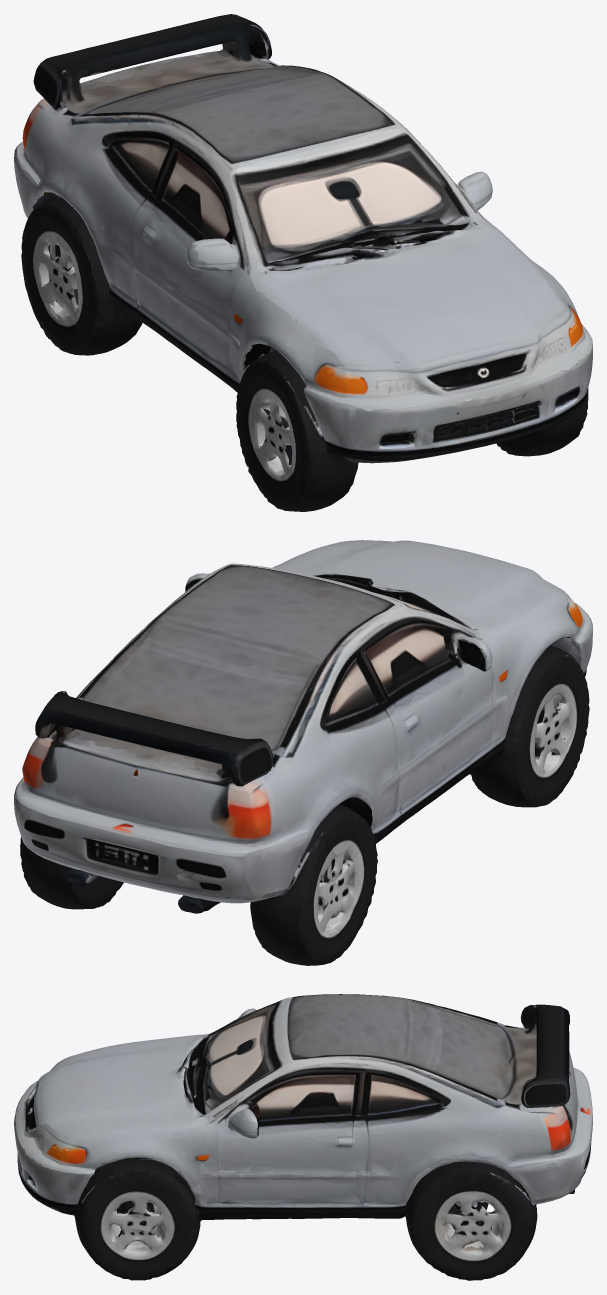
3 views of the same model, one above another, from view 1: azimuth 30°, elevation 25°; view 2: azimuth 150°, elevation 25°; view 3: azimuth 270°, elevation 25° (orthographic). The views are drawn at different scales.
Visible parts, largest first — view 1: textured_mesh; view 2: textured_mesh; view 3: textured_mesh.
Part boxes in pixels (box(x1,y1,x2,y2)): textured_mesh: box(14, 14, 592, 511); textured_mesh: box(14, 540, 592, 965); textured_mesh: box(14, 994, 592, 1280).
Size of the model in its own units: 0.9386 by 0.7946 by 1.99.
Materials: 1 (1 with a texture image).
